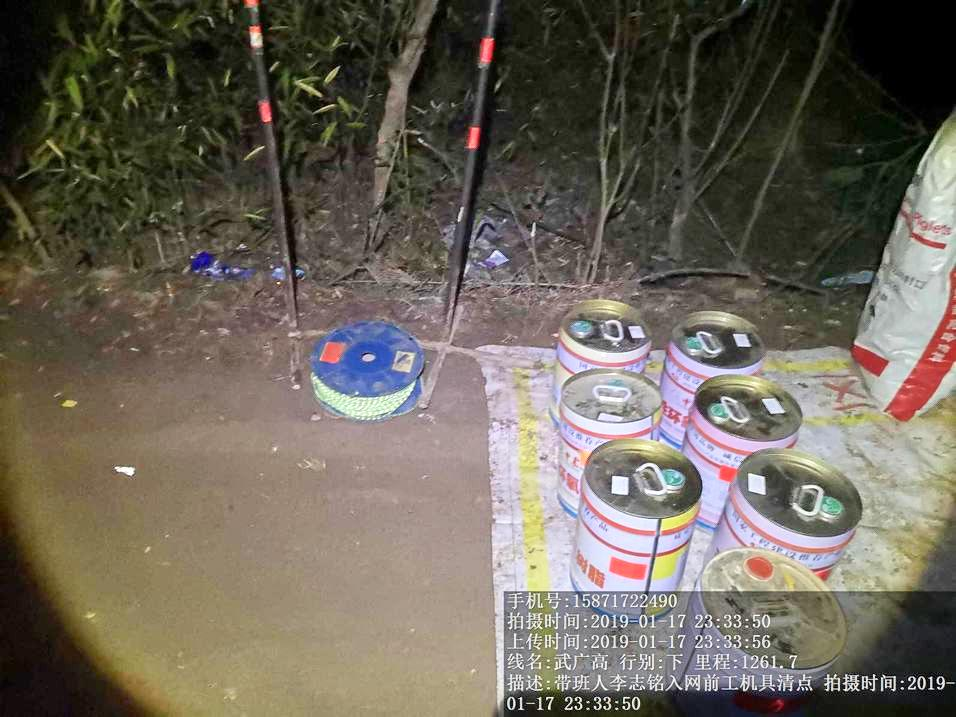BZD: (863, 123, 952, 418)
